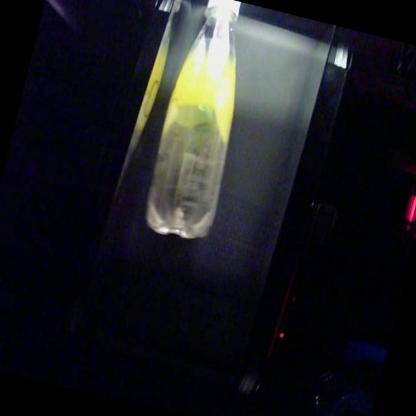Plastic Bottle: (146, 0, 240, 238)
